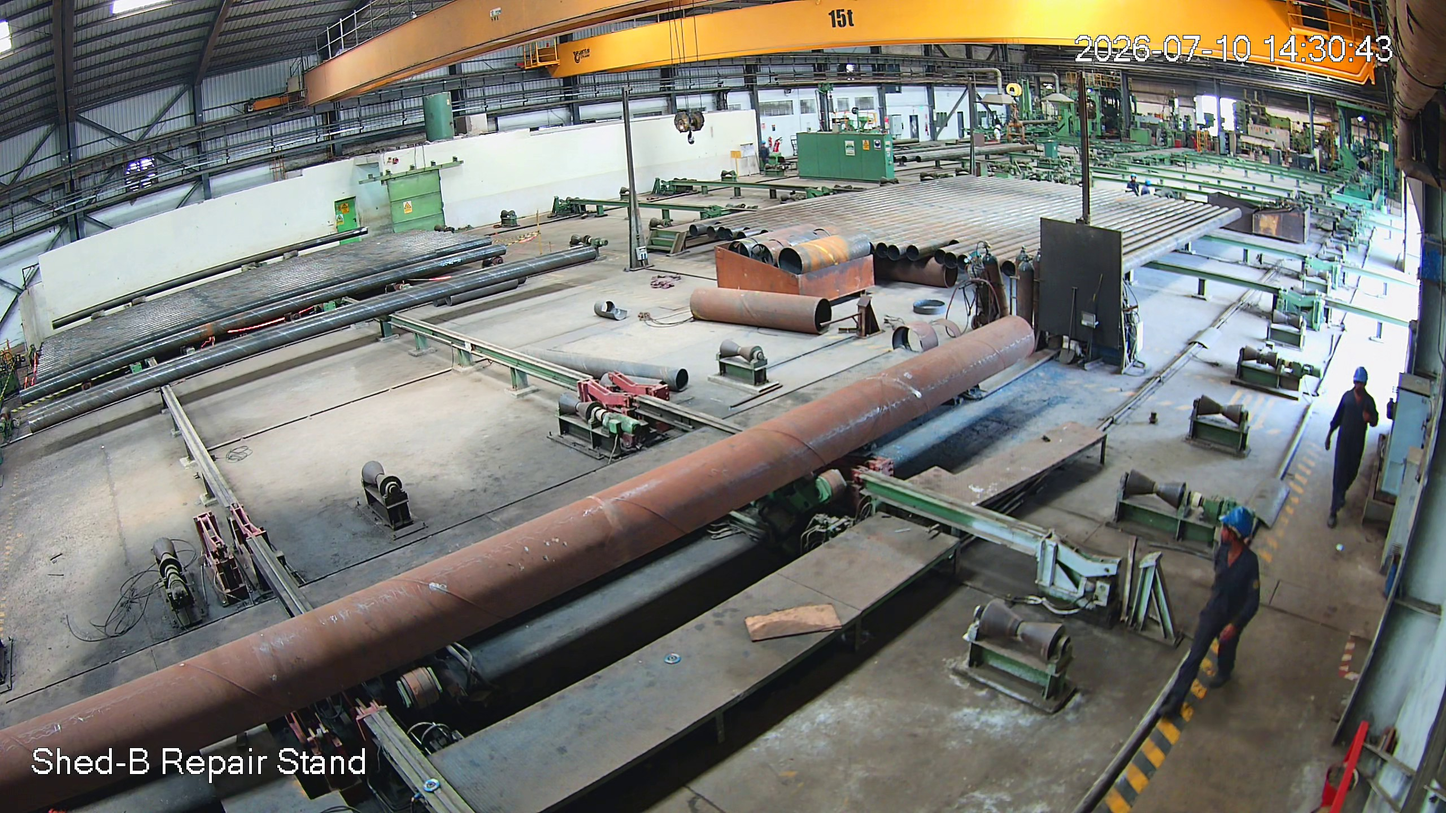Helmet: (1202, 496, 1271, 553), (1346, 361, 1384, 411)
Person: (1166, 499, 1271, 719), (1319, 365, 1384, 531)
